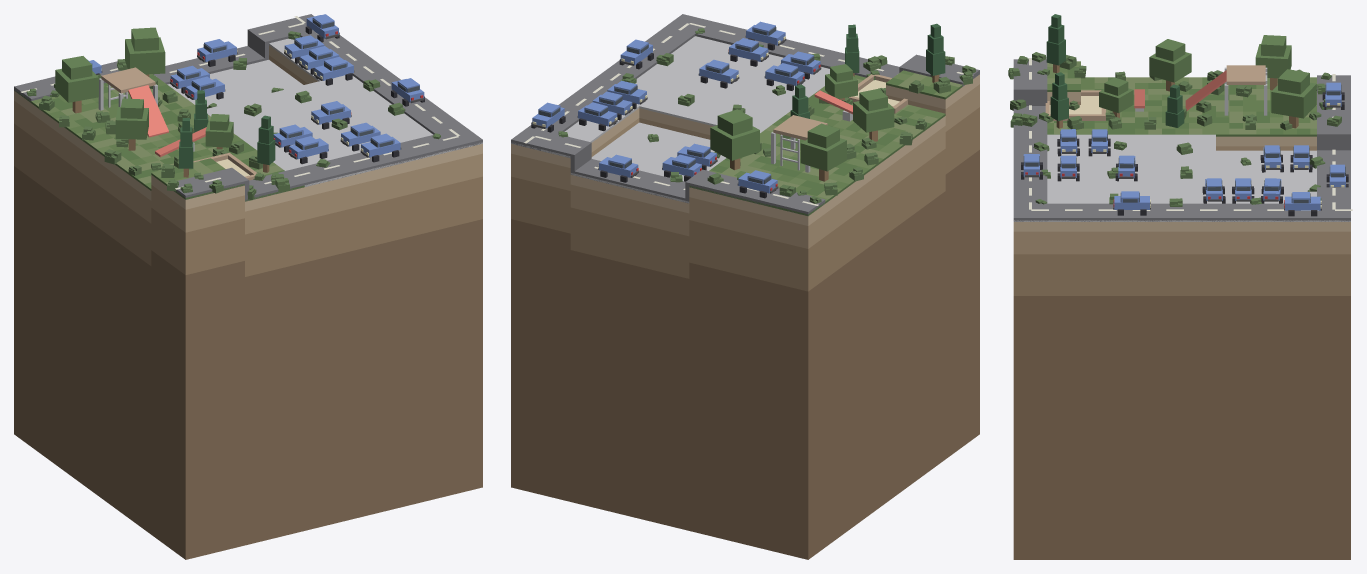
Rendered from block_23_engineered_65.glb.
3 renders of one model, left to right at view 1: azimuth 30°, elevation 25°; view 2: azimuth 150°, elevation 25°; view 3: azimuth 270°, elevation 25°, orthographic.
Visible parts, largest first — view 1: Patch_UpperRight_b23_ES, Resid_UpperRight_b23_ES, Roads_UpperRight_b23_ES, PlayEquip_UpperRight_b23_ES, RTree_45_ES, RTree_46_ES, RTree_43_ES, RTree_42_ES, RTree_41_ES, PCar_0_ES, RCar_9_ES, PCar_7_ES (+12 smaller); view 2: Patch_UpperRight_b23_ES, Resid_UpperRight_b23_ES, Roads_UpperRight_b23_ES, PlayEquip_UpperRight_b23_ES, RTree_46_ES, RTree_45_ES, RTree_43_ES, RTree_42_ES, RTree_40_ES, PCar_6_ES, RCar_3_ES, PCar_4_ES (+13 smaller); view 3: Patch_UpperRight_b23_ES, Resid_UpperRight_b23_ES, Roads_UpperRight_b23_ES, PlayEquip_UpperRight_b23_ES, RTree_46_ES, RTree_43_ES, RTree_45_ES, RTree_42_ES, RTree_40_ES, RTree_41_ES, RCar_13_ES, RCar_14_ES (+14 smaller).
Boxes of the visible parts, bbox=[...] form: Patch_UpperRight_b23_ES: bbox=[14, 45, 482, 559]; Resid_UpperRight_b23_ES: bbox=[14, 38, 482, 201]; Roads_UpperRight_b23_ES: bbox=[14, 14, 482, 201]; PlayEquip_UpperRight_b23_ES: bbox=[98, 67, 257, 180]; RTree_45_ES: bbox=[55, 56, 98, 113]; RTree_46_ES: bbox=[125, 27, 165, 76]; RTree_43_ES: bbox=[115, 98, 148, 150]; RTree_42_ES: bbox=[205, 114, 233, 149]; RTree_41_ES: bbox=[257, 115, 275, 172]; PCar_0_ES: bbox=[288, 136, 328, 164]; RCar_9_ES: bbox=[360, 133, 401, 162]; PCar_7_ES: bbox=[314, 56, 354, 85]; Patch_UpperRight_b23_ES: bbox=[511, 74, 979, 559]; Resid_UpperRight_b23_ES: bbox=[511, 36, 962, 216]; Roads_UpperRight_b23_ES: bbox=[511, 14, 979, 215]; PlayEquip_UpperRight_b23_ES: bbox=[771, 74, 907, 172]; RTree_46_ES: bbox=[710, 109, 759, 170]; RTree_45_ES: bbox=[800, 123, 846, 181]; RTree_43_ES: bbox=[853, 88, 894, 141]; RTree_42_ES: bbox=[825, 64, 857, 100]; RTree_40_ES: bbox=[926, 23, 945, 82]; PCar_6_ES: bbox=[698, 59, 739, 88]; RCar_3_ES: bbox=[737, 170, 778, 198]; PCar_4_ES: bbox=[728, 38, 768, 66]; Patch_UpperRight_b23_ES: bbox=[1013, 92, 1350, 559]; Resid_UpperRight_b23_ES: bbox=[1013, 61, 1350, 221]; Roads_UpperRight_b23_ES: bbox=[1013, 59, 1350, 221]; PlayEquip_UpperRight_b23_ES: bbox=[1045, 65, 1267, 120]; RTree_46_ES: bbox=[1271, 69, 1316, 128]; RTree_43_ES: bbox=[1149, 39, 1191, 91]; RTree_45_ES: bbox=[1255, 35, 1291, 90]; RTree_42_ES: bbox=[1099, 77, 1133, 117]; RTree_40_ES: bbox=[1046, 14, 1065, 73]; RTree_41_ES: bbox=[1050, 72, 1068, 128]; RCar_13_ES: bbox=[1284, 192, 1321, 216]; RCar_14_ES: bbox=[1113, 191, 1150, 215].
Size of the model in its own units: 9.71 by 12.8 by 9.7.
